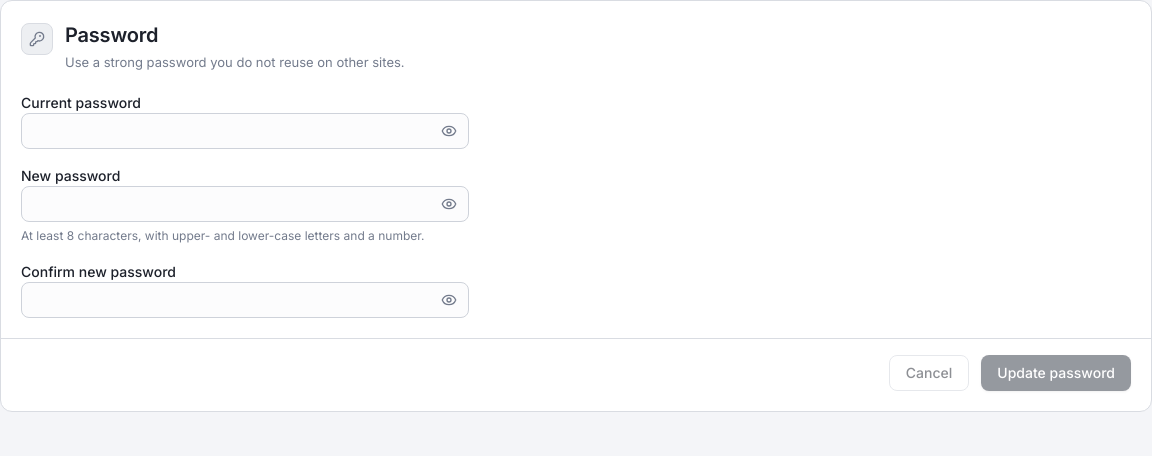
it: ChangePasswordForm › rejects a weak new password with a validation message
Type "OldPass123" into the password field labelled "Current password".
click(245, 131); type("OldPass123")  # box [21,113,469,149]
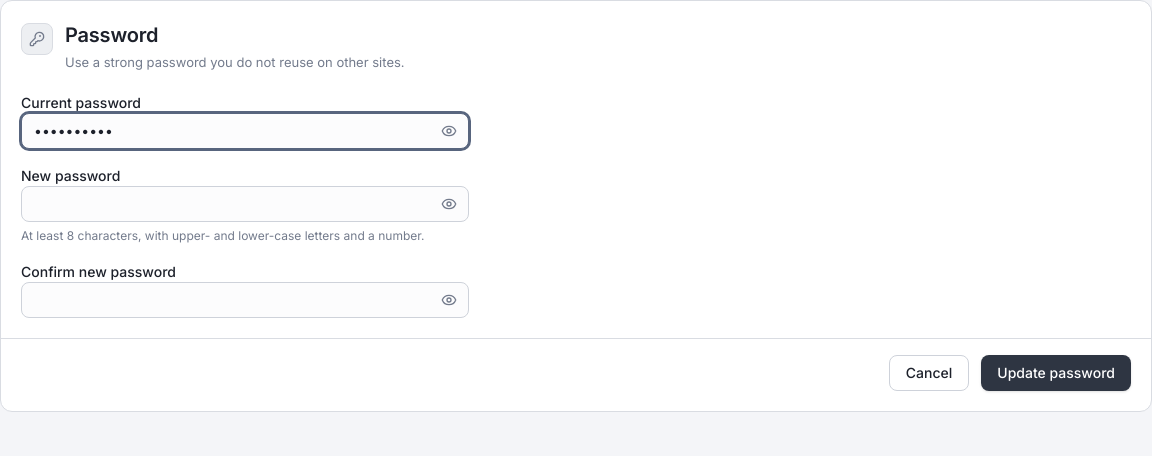
Type "weak" into the password field labelled "New password".
click(245, 204); type("weak")  # box [21,186,469,222]
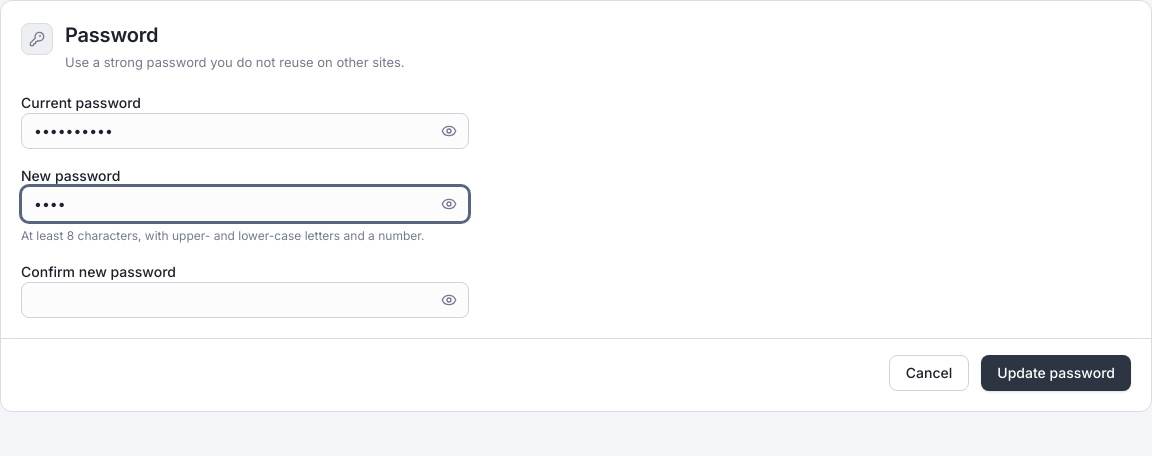
Type "weak" into the password field labelled "Confirm new password".
click(245, 300); type("weak")  # box [21,282,469,318]
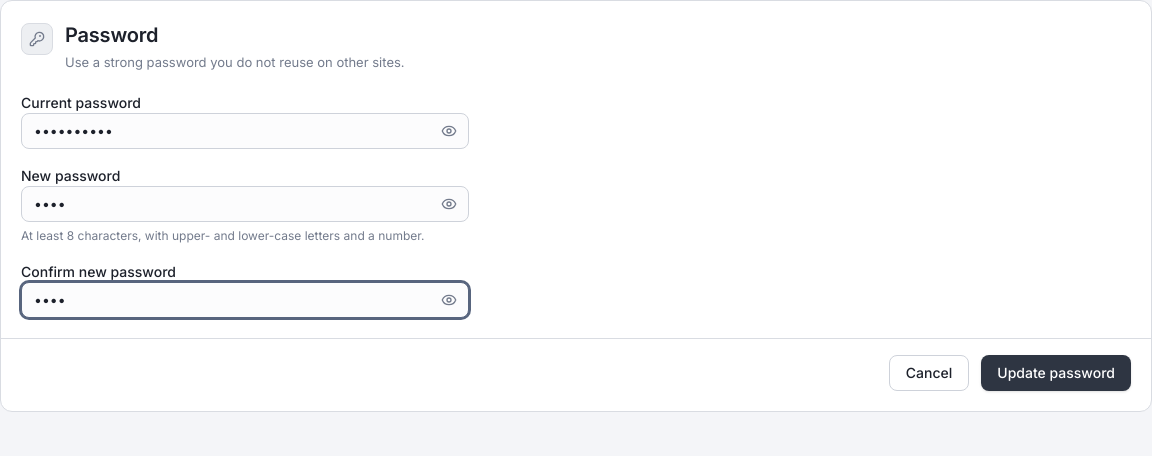
Click the button "Update password".
click(1056, 373)  # box [981,355,1131,391]
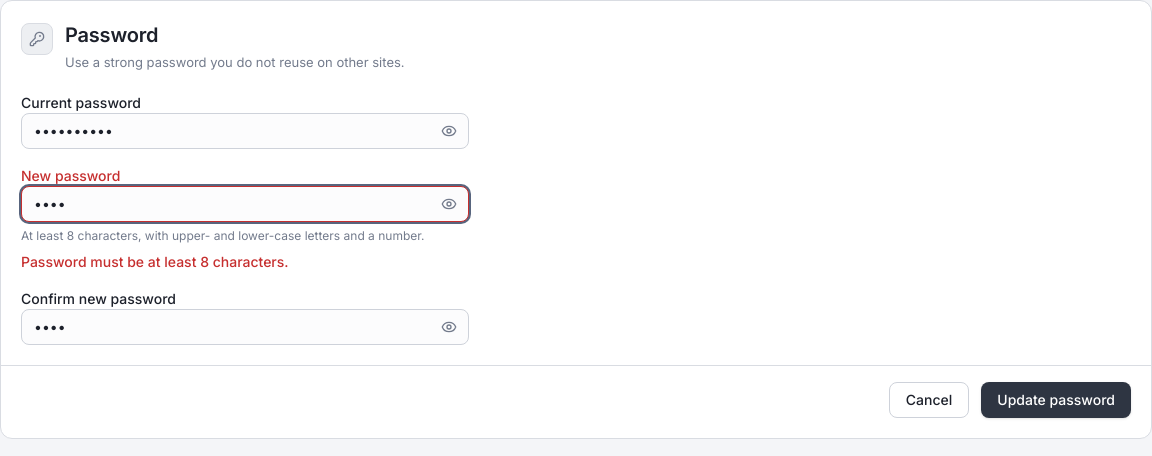
Now the text "Password must be at least 8 characters." is shown, box [21,253,289,270]
